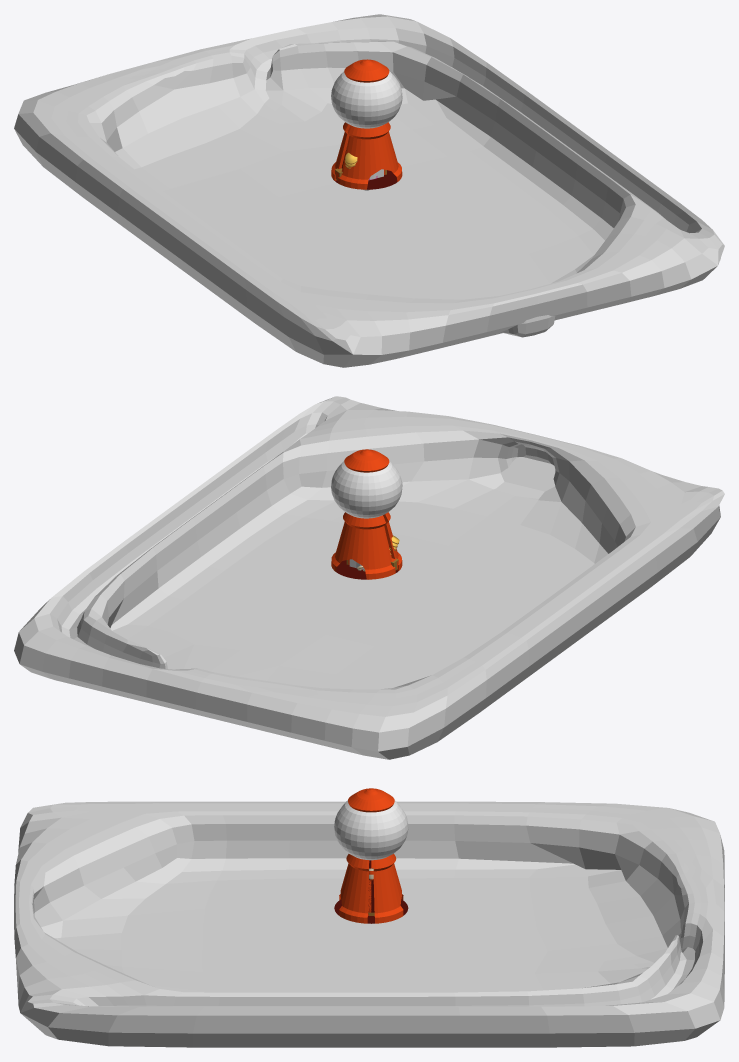
The model's file is G477Proj1Targets 1.fbx.
The picture shows the model from 3 angles, top to bottom: view 1: azimuth 30°, elevation 25°; view 2: azimuth 150°, elevation 25°; view 3: azimuth 270°, elevation 25°; orthographic projection. The views are drawn at different scales.
Parts seen in each view (by area): view 1: Gbox.Board, Cylinder.002, Sphere.001, Sphere; view 2: Gbox.Board, Cylinder.002, Sphere.001, Sphere; view 3: Gbox.Board, Cylinder.002, Sphere.001, Sphere.
Boxes of the visible parts, box(x1,y1,x2,y2) form: Gbox.Board: box(14, 14, 724, 367); Cylinder.002: box(331, 122, 402, 189); Sphere.001: box(331, 71, 402, 128); Sphere: box(344, 59, 389, 82); Gbox.Board: box(14, 396, 724, 759); Cylinder.002: box(331, 512, 402, 579); Sphere.001: box(331, 461, 402, 518); Sphere: box(344, 449, 389, 472); Gbox.Board: box(14, 801, 724, 1047); Cylinder.002: box(334, 854, 408, 923); Sphere.001: box(334, 800, 408, 860); Sphere: box(348, 788, 394, 812).
Bounding box in the file's own units: 3293 × 1230 × 4753.
